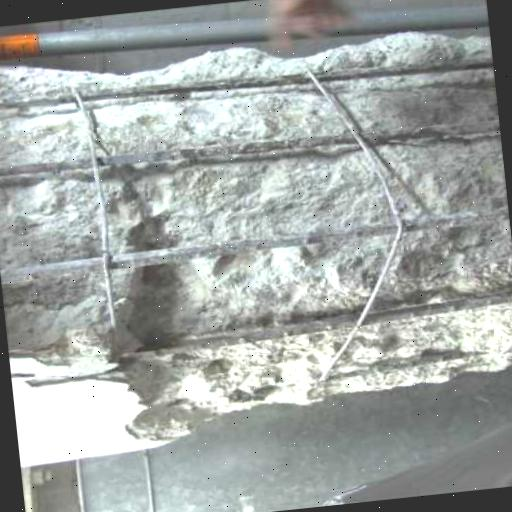spalling: (0, 28, 512, 441)
